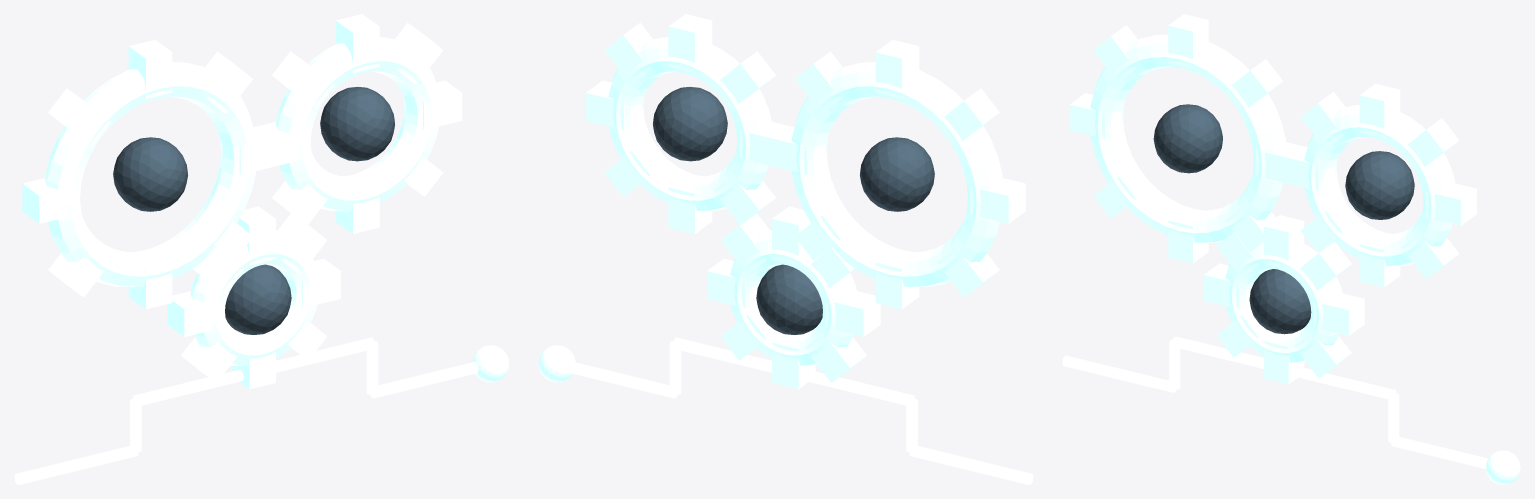
The model's file is plan_09.glb.
3 views of the same model, side by side, from view 1: azimuth 30°, elevation 25°; view 2: azimuth 150°, elevation 25°; view 3: azimuth 330°, elevation 25° (orthographic). The views are drawn at different scales.
Parts seen in each view (by area): view 1: gear_ring-0.350.2, gear_ring0.350.2, gear_ring0-0.28, gear_hub0.350.2, gear_hub-0.350.2, gear_hub0-0.28, flow_2, tooth-0.350.22, tooth0.350.22, tooth-0.350.24, tooth0-0.284, tooth0.350.23 (+24 smaller); view 2: gear_ring-0.350.2, gear_ring0.350.2, gear_ring0-0.28, gear_hub0.350.2, gear_hub-0.350.2, gear_hub0-0.28, flow_2, tooth-0.350.22, tooth0.350.22, tooth-0.350.24, tooth0-0.284, tooth0.350.23 (+24 smaller); view 3: gear_ring-0.350.2, gear_ring0.350.2, gear_ring0-0.28, gear_hub-0.350.2, gear_hub0.350.2, gear_hub0-0.28, flow_2, tooth0.350.22, tooth0-0.280, tooth-0.350.22, tooth0.350.20, tooth0-0.282 (+24 smaller).
Part boxes in pixels (bbox=[...]): gear_ring-0.350.2: bbox=[45, 62, 256, 287]; gear_ring0.350.2: bbox=[275, 37, 439, 211]; gear_ring0-0.28: bbox=[190, 230, 317, 365]; gear_hub0.350.2: bbox=[320, 87, 394, 161]; gear_hub-0.350.2: bbox=[113, 137, 187, 211]; gear_hub0-0.28: bbox=[225, 264, 291, 334]; flow_2: bbox=[133, 337, 375, 405]; tooth-0.350.22: bbox=[128, 39, 172, 98]; tooth0.350.22: bbox=[335, 14, 379, 72]; tooth-0.350.24: bbox=[22, 178, 77, 223]; tooth0-0.284: bbox=[167, 291, 222, 336]; tooth0.350.23: bbox=[272, 51, 334, 109]; gear_ring-0.350.2: bbox=[791, 62, 1002, 287]; gear_ring0.350.2: bbox=[608, 37, 772, 211]; gear_ring0-0.28: bbox=[730, 230, 857, 365]; gear_hub0.350.2: bbox=[653, 87, 727, 161]; gear_hub-0.350.2: bbox=[860, 137, 934, 211]; gear_hub0-0.28: bbox=[756, 264, 822, 334]; flow_2: bbox=[672, 337, 914, 405]; tooth-0.350.22: bbox=[875, 39, 919, 98]; tooth0.350.22: bbox=[668, 14, 712, 72]; tooth-0.350.24: bbox=[970, 178, 1025, 223]; tooth0-0.284: bbox=[825, 291, 880, 336]; tooth0.350.23: bbox=[713, 51, 775, 109]; gear_ring-0.350.2: bbox=[1090, 34, 1286, 242]; gear_ring0.350.2: bbox=[1304, 105, 1455, 266]; gear_ring0-0.28: bbox=[1225, 242, 1342, 362]; gear_hub-0.350.2: bbox=[1153, 104, 1222, 173]; gear_hub0.350.2: bbox=[1345, 151, 1414, 219]; gear_hub0-0.28: bbox=[1249, 269, 1311, 334]; flow_2: bbox=[1172, 336, 1396, 399]; tooth0.350.22: bbox=[1359, 83, 1400, 138]; tooth0-0.280: bbox=[1313, 293, 1364, 335]; tooth-0.350.22: bbox=[1168, 14, 1208, 68]; tooth0.350.20: bbox=[1425, 183, 1476, 225]; tooth0-0.282: bbox=[1264, 215, 1304, 269].
Bounding box in the file's own units: 1.82 × 1.47 × 0.2419.
